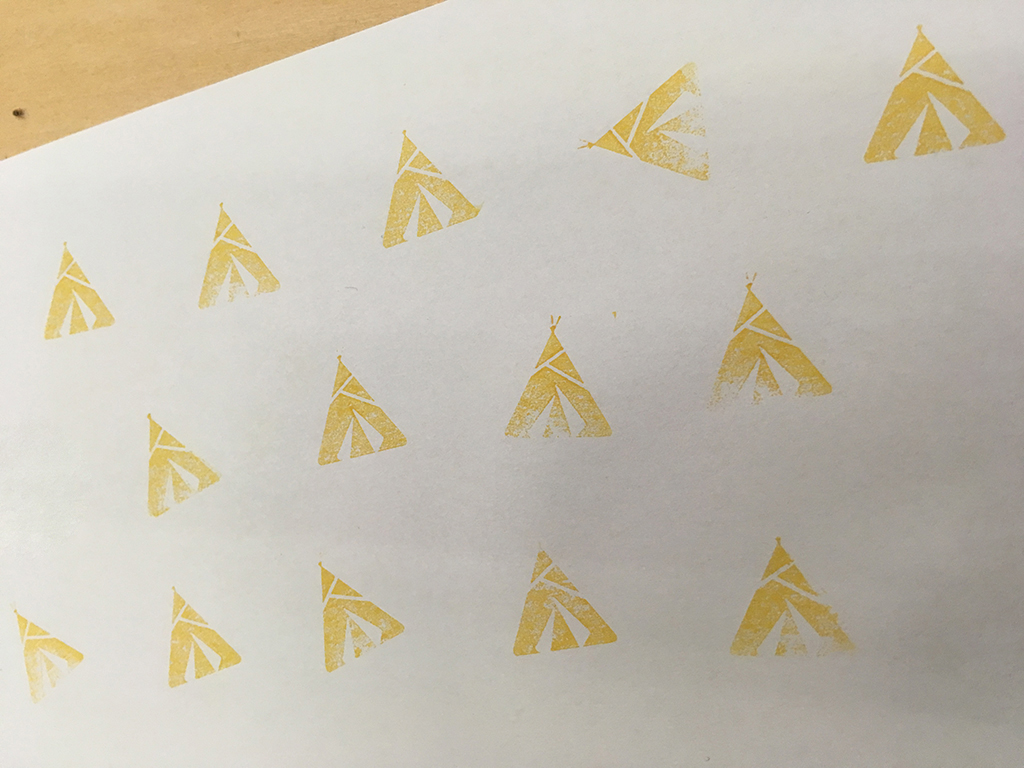tent: (858, 16, 1016, 178), (696, 263, 847, 425), (570, 52, 720, 189), (486, 308, 626, 446), (724, 530, 864, 666), (497, 533, 623, 662), (297, 343, 417, 474), (373, 115, 483, 252), (306, 556, 413, 679), (184, 196, 287, 311), (140, 404, 231, 525), (159, 581, 244, 694), (4, 598, 92, 707), (40, 232, 123, 345)
